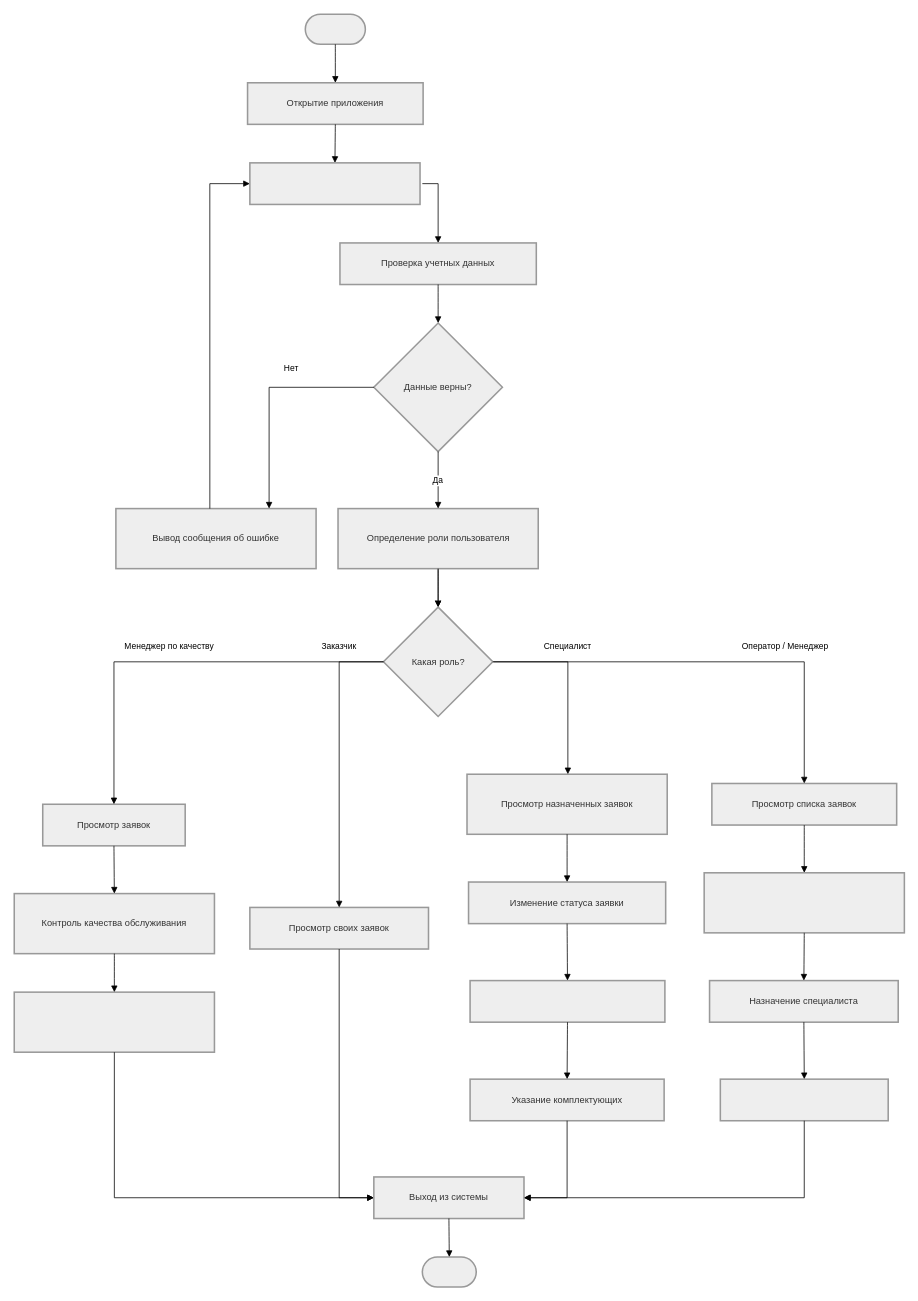
This 918x1301 diagram has some shape labels left out. Each missing label, with the box of its shape:
Ввод логина и пароля: (249, 162, 420, 205)
Добавление комментария: (469, 979, 665, 1023)
Конец: (421, 1256, 477, 1287)
Начало: (304, 13, 366, 45)
Переход к форме оценки через QR-код: (13, 991, 215, 1053)
Просмотр статистики: (719, 1078, 889, 1121)
Создание и редактирование заявок: (703, 872, 905, 933)
